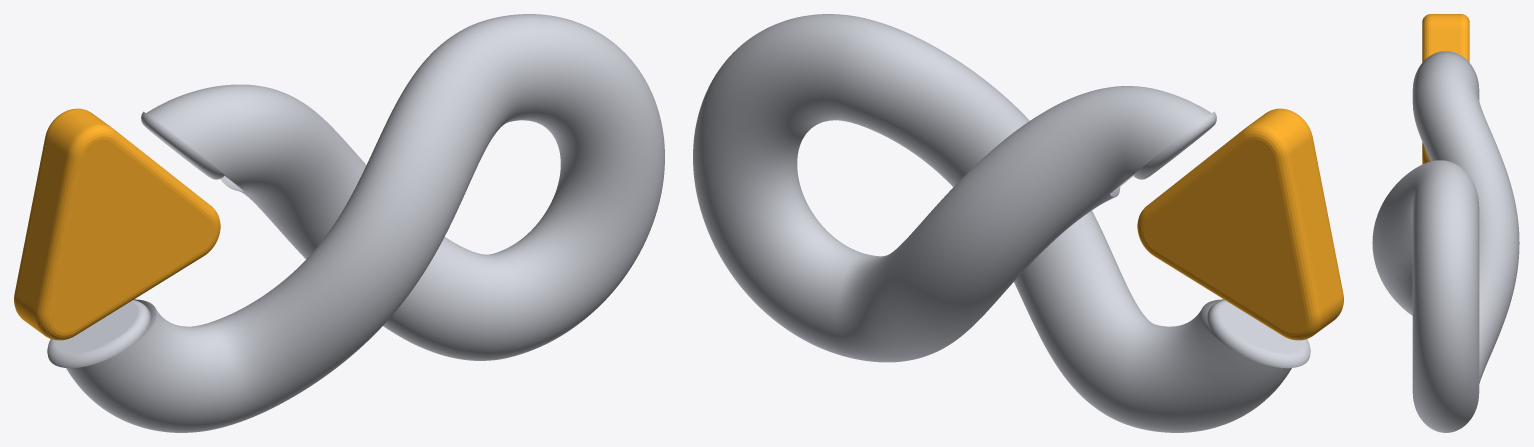
The model's file is osloop-infinity.glb.
The picture shows the model from 3 angles, left to right: view 1: azimuth 30°, elevation 25°; view 2: azimuth 150°, elevation 25°; view 3: azimuth 270°, elevation 25°; orthographic projection. The views are drawn at different scales.
Visible parts, largest first — view 1: OsLoop_Infinity, OsLoop_Arrow; view 2: OsLoop_Infinity, OsLoop_Arrow; view 3: OsLoop_Infinity, OsLoop_Arrow.
Boxes of the visible parts, x1,y1,x2,y2 form: OsLoop_Infinity: (47,14,664,432); OsLoop_Arrow: (14,108,220,340); OsLoop_Infinity: (693,14,1310,432); OsLoop_Arrow: (1137,108,1343,340); OsLoop_Infinity: (1372,51,1519,432); OsLoop_Arrow: (1422,14,1469,164).
Size of the model in its own units: 5.52 by 2.82 by 1.49.
